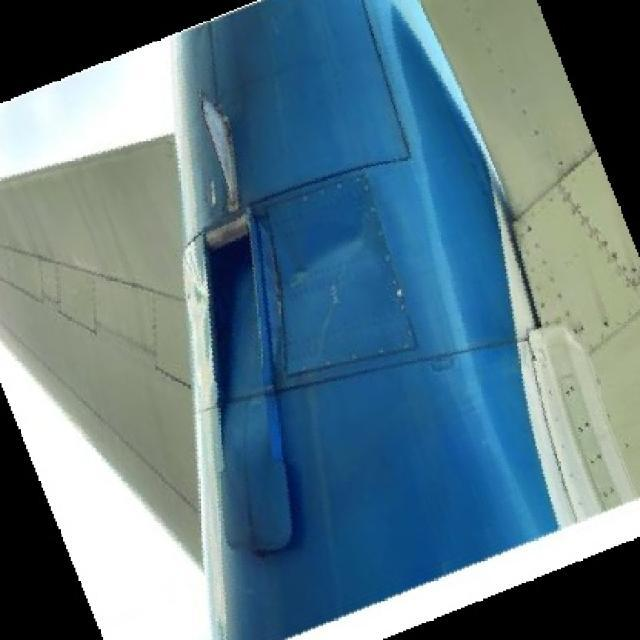dent: (252, 200, 417, 297)
